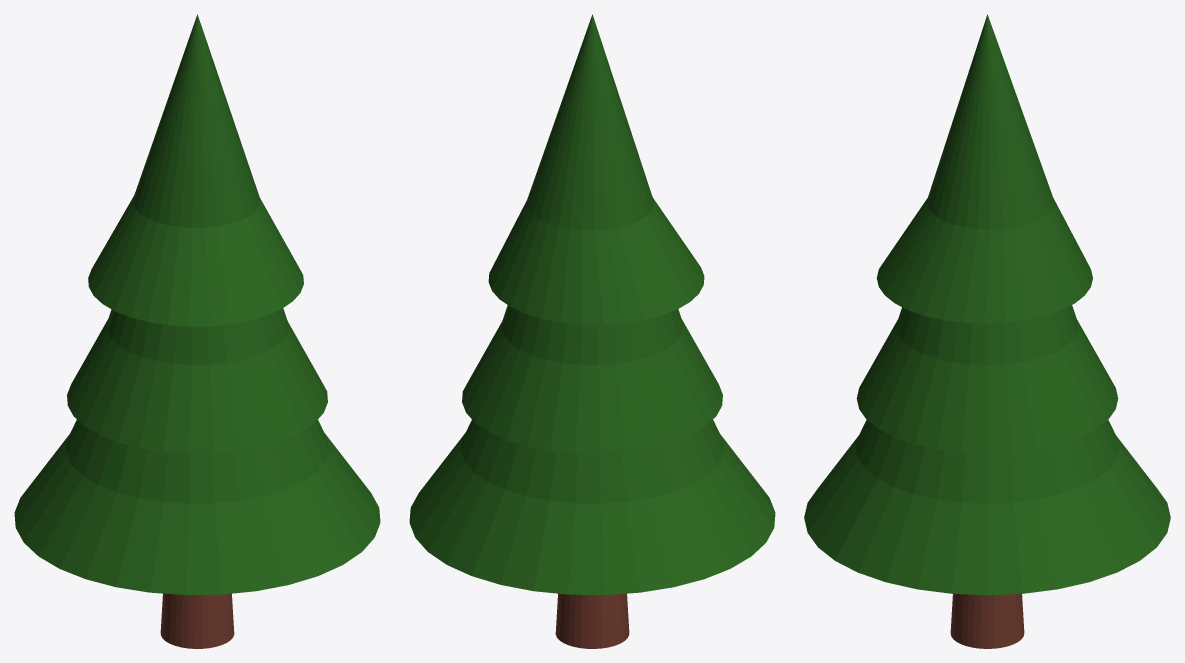
Rendered from pine-tree.gltf.
3 renders of one model, left to right at view 1: azimuth 30°, elevation 25°; view 2: azimuth 150°, elevation 25°; view 3: azimuth 270°, elevation 25°, orthographic.
Visible parts, largest first — view 1: Cone; view 2: Cone; view 3: Cone.
Boxes of the visible parts, <box> form: Cone: <box>14,14,380,648</box>; Cone: <box>409,14,775,648</box>; Cone: <box>804,14,1170,648</box>.
Size of the model in its own units: 0.8397 by 1.56 by 0.8397.
1 material, 1 textured.
